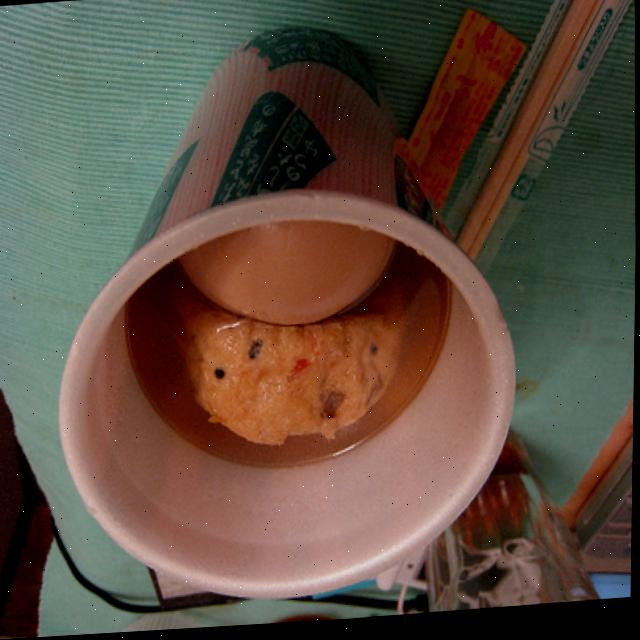汤锅炖物: (172, 218, 417, 471)
